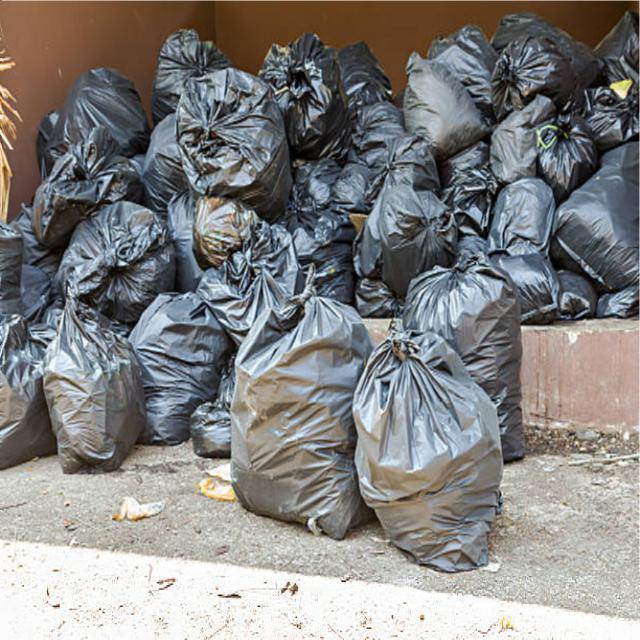Trashbag: (350, 343, 505, 583), (228, 290, 369, 532), (172, 63, 290, 207), (121, 291, 220, 441), (40, 309, 132, 469), (551, 136, 639, 296), (392, 39, 499, 151), (400, 265, 526, 360), (270, 38, 359, 167), (486, 86, 600, 186), (63, 201, 173, 303), (364, 175, 460, 282), (485, 168, 564, 277), (53, 70, 146, 155), (0, 323, 54, 464), (486, 33, 585, 101), (283, 213, 359, 298)
